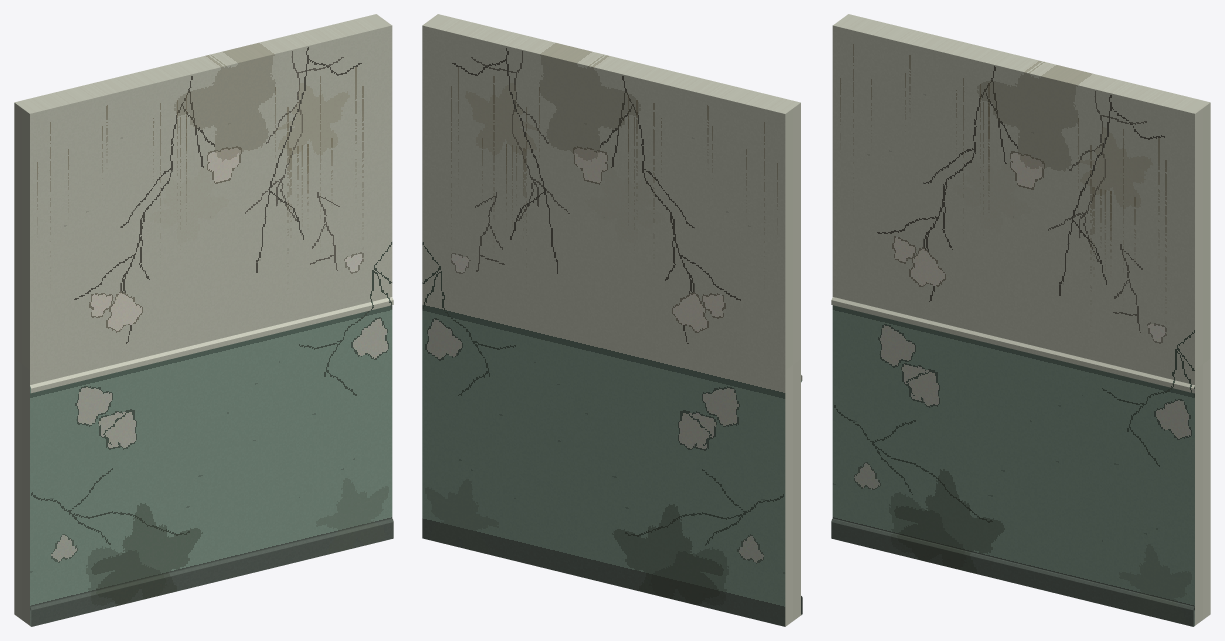
Rendered from wall_4a.glb.
3 renders of one model, left to right at view 1: azimuth 30°, elevation 25°; view 2: azimuth 150°, elevation 25°; view 3: azimuth 330°, elevation 25°, orthographic.
Visible parts, largest first — view 1: wall_body; view 2: wall_body; view 3: wall_body.
Boxes of the visible parts, x1,y1,x2,y2 form: wall_body: [14, 14, 393, 626]; wall_body: [422, 14, 802, 626]; wall_body: [831, 14, 1210, 626].
Bounding box in the file's own units: 2 × 2.7 × 0.1656.
Materials: 1 (1 with a texture image).
